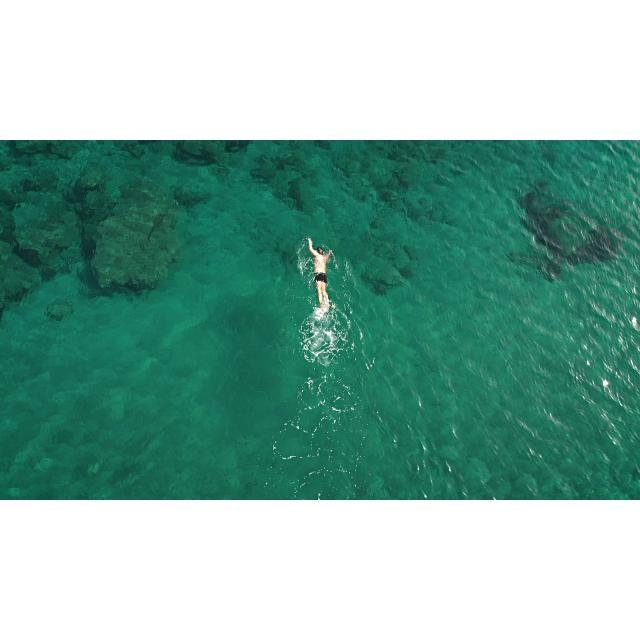human: (307, 238, 337, 317)
